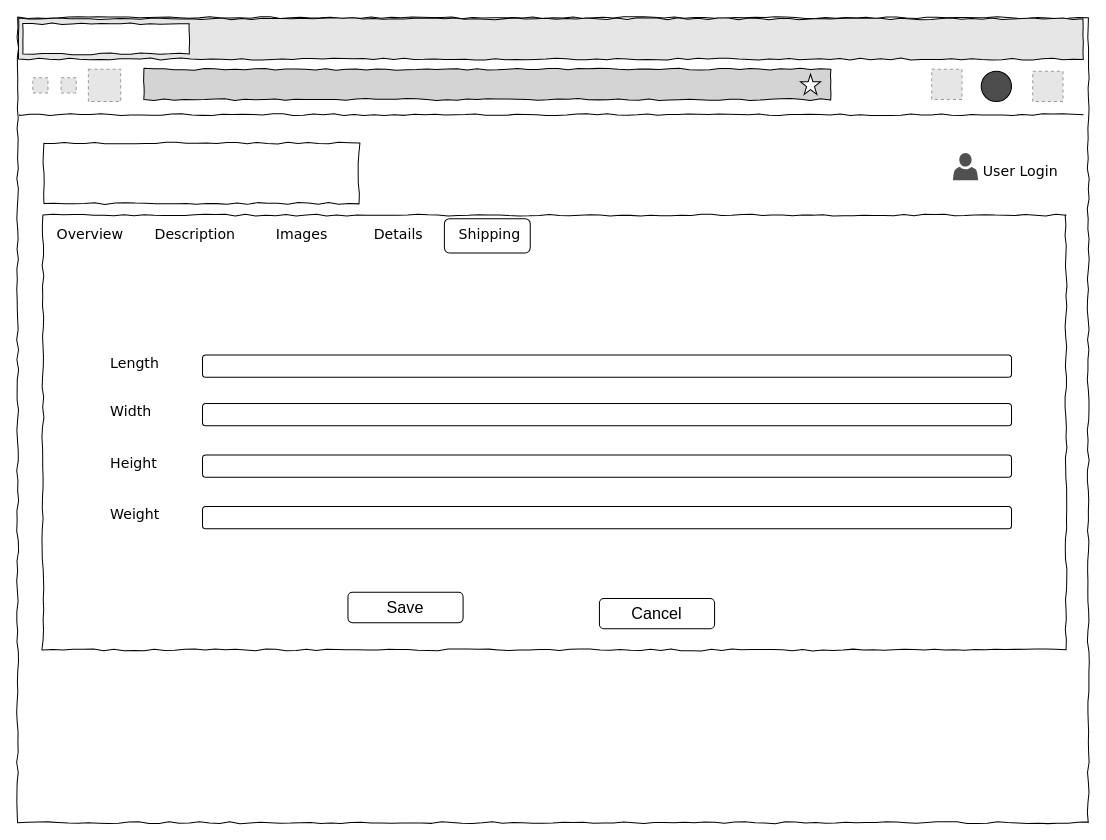
Some shapes in this 1106 by 840 pixel diagram are drawn without their labels. Grey dashed boxes stand in for pictures. The box of each missing label's shape, as (x1, y1, x2, y2) in pixels:
Create New Products: (43, 142, 359, 204)
www.onloinieshopping.XXXXXXXXXXXXXXXXXXXXXXXXXXXXXXXXXXXXXXXXXXXXXXXXXXXXXXXX: (143, 68, 831, 99)
